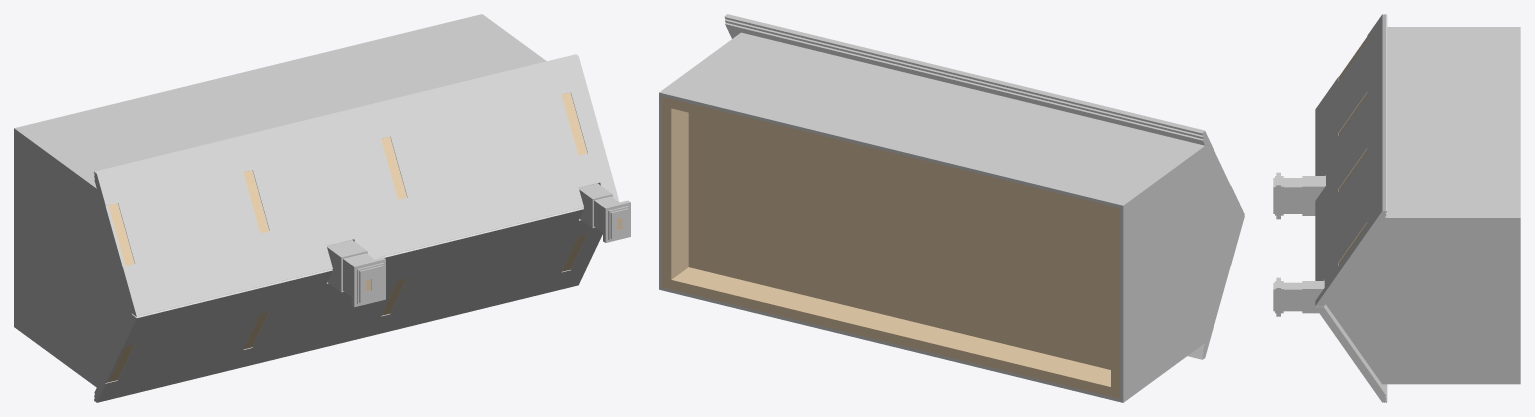
The picture shows the model from 3 angles, left to right: view 1: azimuth 30°, elevation 25°; view 2: azimuth 150°, elevation 25°; view 3: azimuth 270°, elevation 25°; orthographic projection. The views are drawn at different scales.
Visible parts, largest first — view 1: house_c9_front_roof_p4_p4_part, house_c8_back_roof_p4_p4_part, house_c1_front_wall_p1_outside_wall_part, house_c4_left_wall_p1_outside_wall_part, house_c4_left_wall_p0_base_wall_part, house_c9_front_roof_p3_p3_part, house_c9_front_roof_p2_p2_part, house_c5_rafter0_p0_base_wall_part, house_c6_rafter1_p0_base_wall_part, house_c10_chimney_c3_top_p6_top_3_0_part, house_c3_right_wall_p0_base_wall0_part; view 2: house_c0_floor_p0_base_floor_0_part, house_c1_front_wall_p1_outside_wall_part, house_c4_left_wall_p1_outside_wall_part, house_c2_back_wall_p0_base_wall_part, house_c1_front_wall_p0_base_wall_part, house_c3_right_wall_p0_base_wall0_part, house_c9_front_roof_p0_p0_part, house_c9_front_roof_p2_p2_part, house_c9_front_roof_p1_p1_part, house_c4_left_wall_p0_base_wall_part, house_c2_back_wall_p1_outside_wall_part, house_c3_right_wall_p1_base_wall1_part (+4 smaller); view 3: house_c3_right_wall_p3_outside_wall1_part, house_c1_front_wall_p1_outside_wall_part, house_c9_front_roof_p4_p4_part, house_c9_front_roof_p3_p3_part, house_c9_front_roof_p2_p2_part, house_c3_right_wall_p2_outside_wall0_part, house_c8_back_roof_p0_p0_part, house_c10_chimney_c1_four_walls_p3_front_wall_part, house_c10_chimney_c2_four_walls_p3_front_wall_part, house_c4_left_wall_p1_outside_wall_part, house_c10_chimney_c2_four_walls_p0_right_wall_part, house_c8_back_roof_p2_p2_part (+3 smaller).
Boxes of the visible parts, x1,y1,x2,y2 form: house_c9_front_roof_p4_p4_part: (96, 55, 618, 316); house_c8_back_roof_p4_p4_part: (96, 199, 618, 402); house_c1_front_wall_p1_outside_wall_part: (17, 15, 543, 184); house_c4_left_wall_p1_outside_wall_part: (14, 127, 131, 387); house_c4_left_wall_p0_base_wall_part: (108, 203, 134, 382); house_c9_front_roof_p3_p3_part: (95, 55, 599, 315); house_c9_front_roof_p2_p2_part: (94, 54, 598, 315); house_c5_rafter0_p0_base_wall_part: (243, 170, 269, 349); house_c6_rafter1_p0_base_wall_part: (381, 136, 407, 315); house_c10_chimney_c3_top_p6_top_3_0_part: (359, 265, 383, 302); house_c3_right_wall_p0_base_wall0_part: (562, 93, 622, 271); house_c0_floor_p0_base_floor_0_part: (688, 112, 1110, 369); house_c1_front_wall_p1_outside_wall_part: (662, 33, 1201, 207); house_c4_left_wall_p1_outside_wall_part: (1120, 145, 1239, 402); house_c2_back_wall_p0_base_wall_part: (671, 267, 1110, 396); house_c1_front_wall_p0_base_wall_part: (671, 99, 1110, 215); house_c3_right_wall_p0_base_wall0_part: (666, 97, 688, 289); house_c9_front_roof_p0_p0_part: (725, 23, 1240, 218); house_c9_front_roof_p2_p2_part: (724, 15, 1242, 216); house_c9_front_roof_p1_p1_part: (725, 19, 1241, 217); house_c4_left_wall_p0_base_wall_part: (1111, 206, 1120, 398); house_c2_back_wall_p1_outside_wall_part: (662, 287, 1120, 401); house_c3_right_wall_p1_base_wall1_part: (662, 96, 666, 288); house_c3_right_wall_p3_outside_wall1_part: (1302, 217, 1520, 384); house_c1_front_wall_p1_outside_wall_part: (1386, 28, 1520, 216); house_c9_front_roof_p4_p4_part: (1315, 14, 1383, 306); house_c9_front_roof_p3_p3_part: (1317, 14, 1385, 306); house_c9_front_roof_p2_p2_part: (1319, 14, 1387, 306); house_c3_right_wall_p2_outside_wall0_part: (1283, 216, 1520, 309); house_c8_back_roof_p0_p0_part: (1322, 304, 1386, 396); house_c10_chimney_c1_four_walls_p3_front_wall_part: (1283, 188, 1302, 212); house_c10_chimney_c2_four_walls_p3_front_wall_part: (1302, 188, 1323, 214); house_c4_left_wall_p1_outside_wall_part: (1339, 27, 1520, 77); house_c10_chimney_c2_four_walls_p0_right_wall_part: (1302, 176, 1325, 187); house_c8_back_roof_p2_p2_part: (1319, 306, 1387, 402).
Size of the model in its own units: 175 by 79.72 by 92.92.
